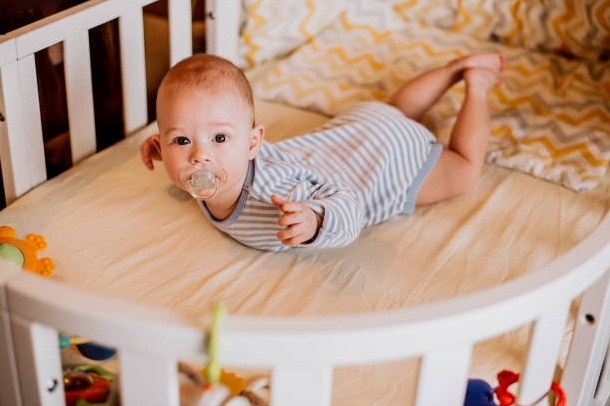baby: (140, 53, 503, 250)
crib: (219, 216, 609, 405)
